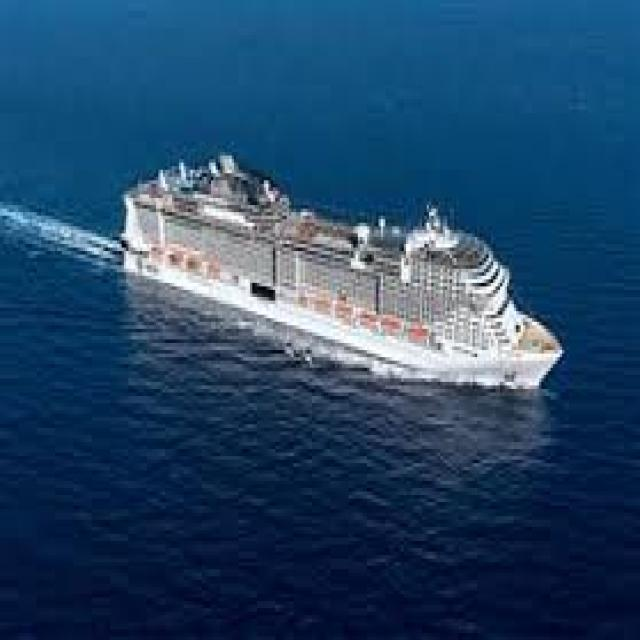passenger ship: (115, 150, 566, 404)
